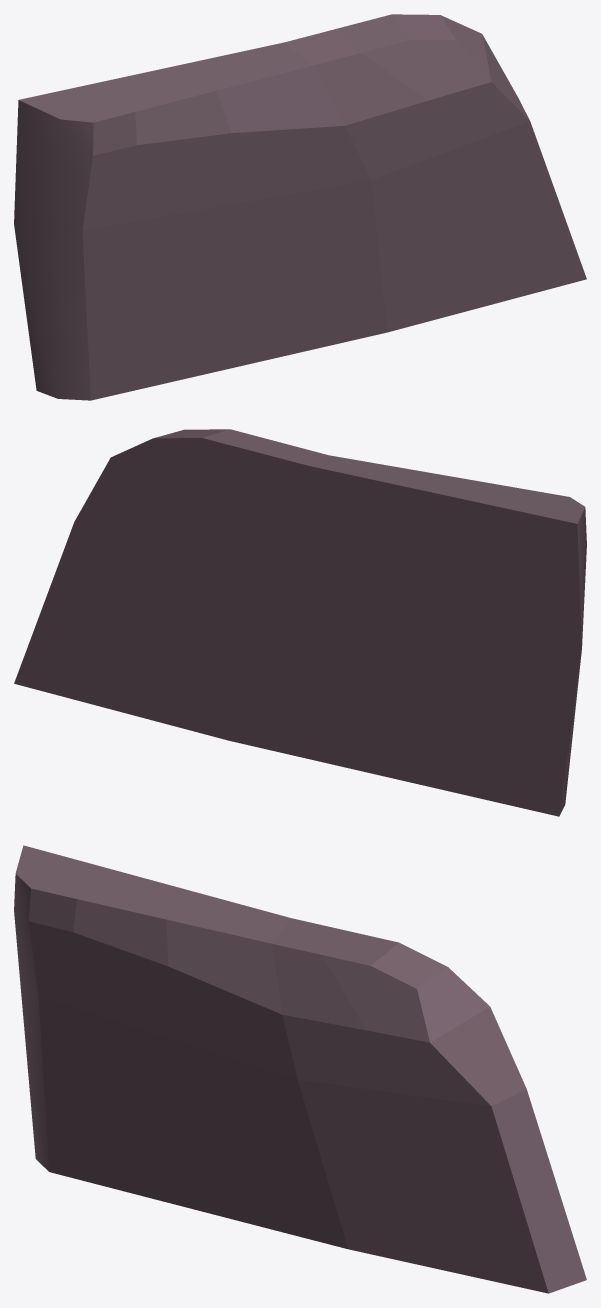
File: SM_Rock_005.fbx
3 views of the same model, one above another, from view 1: azimuth 30°, elevation 25°; view 2: azimuth 150°, elevation 25°; view 3: azimuth 330°, elevation 25° (orthographic).
Visible parts, largest first — view 1: SM_Rock_005; view 2: SM_Rock_005; view 3: SM_Rock_005.
Boxes of the visible parts, bbox=[...] form: SM_Rock_005: bbox=[14, 14, 586, 400]; SM_Rock_005: bbox=[14, 429, 586, 816]; SM_Rock_005: bbox=[14, 845, 586, 1293].
Bounding box in the file's own units: 137 × 1113 × 565.
